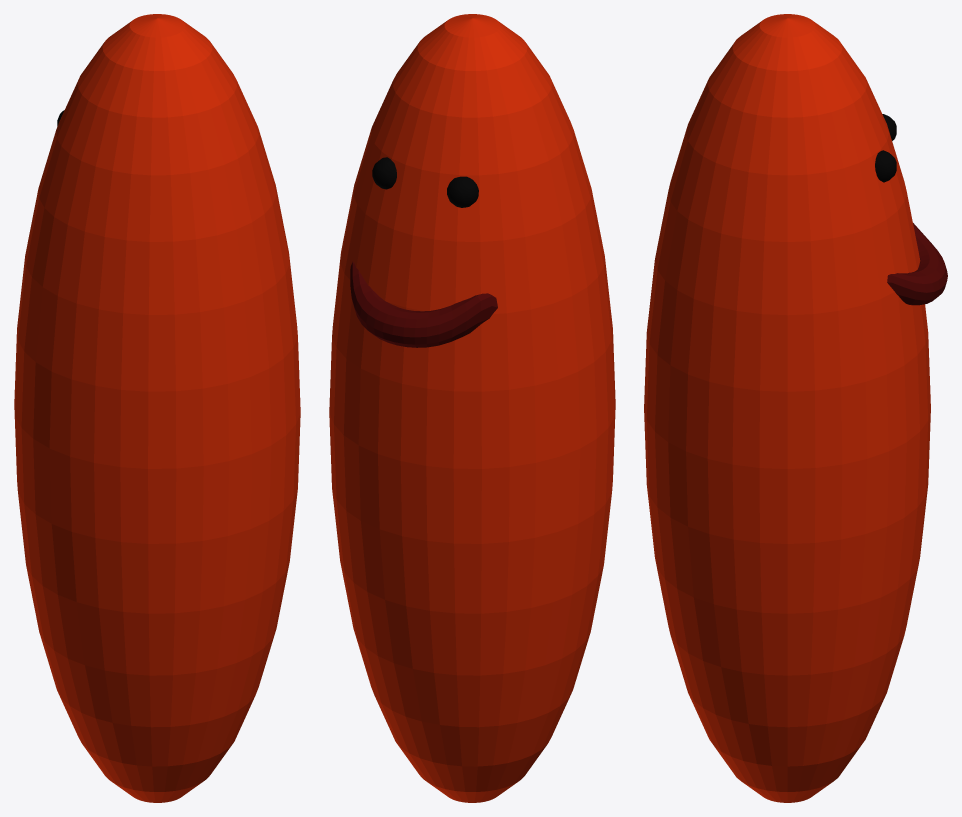
Rendered from sausage.fbx.
The picture shows the model from 3 angles, left to right: view 1: azimuth 30°, elevation 25°; view 2: azimuth 150°, elevation 25°; view 3: azimuth 270°, elevation 25°; orthographic projection.
Visible parts, largest first — view 1: Sphere; view 2: Sphere, Torus.003, Mball; view 3: Sphere, Torus.003, Mball.
Boxes of the visible parts, x1=… form: Sphere: x1=14, y1=14, x2=300, y2=802; Sphere: x1=329, y1=14, x2=615, y2=802; Torus.003: x1=350, y1=261, x2=497, y2=347; Mball: x1=372, y1=157, x2=478, y2=207; Sphere: x1=644, y1=14, x2=930, y2=802; Torus.003: x1=887, y1=223, x2=947, y2=305; Mball: x1=875, y1=114, x2=896, y2=182.
Size of the model in its own units: 200 by 600 by 212.
